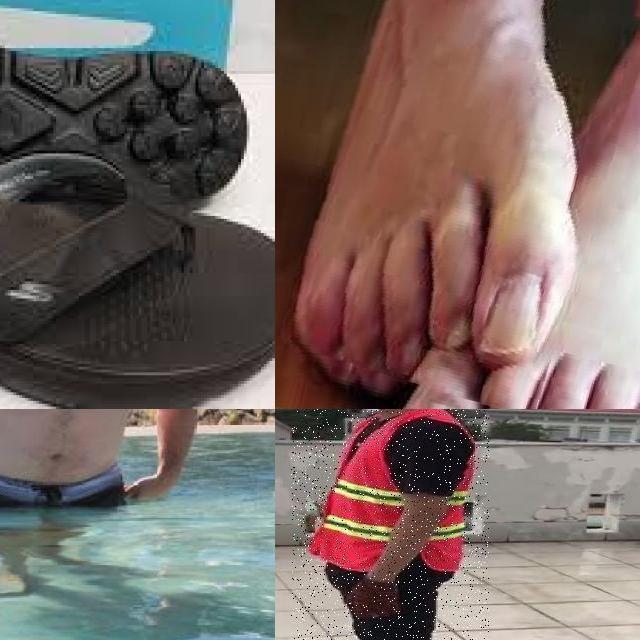Barefoots: (301, 0, 592, 384), (397, 54, 640, 409)
Sandals: (0, 0, 275, 409)
person: (290, 409, 489, 640), (0, 409, 201, 526)
vest: (313, 409, 473, 573)
